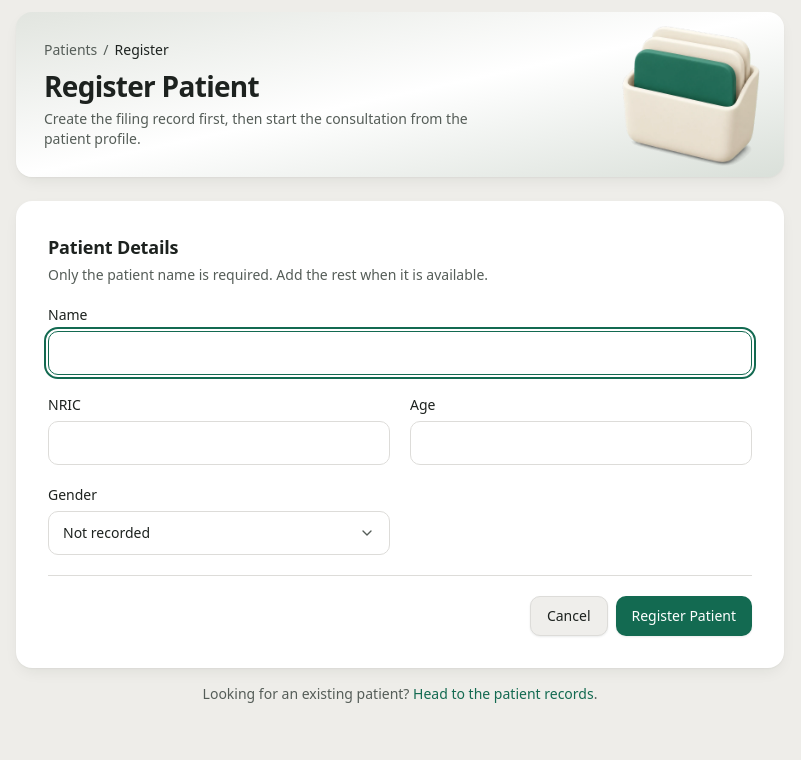
Test case: PatientNew › keeps reception on the form when the name is blank
Click the button "Register Patient" at (684, 616), box [616,596,752,636]
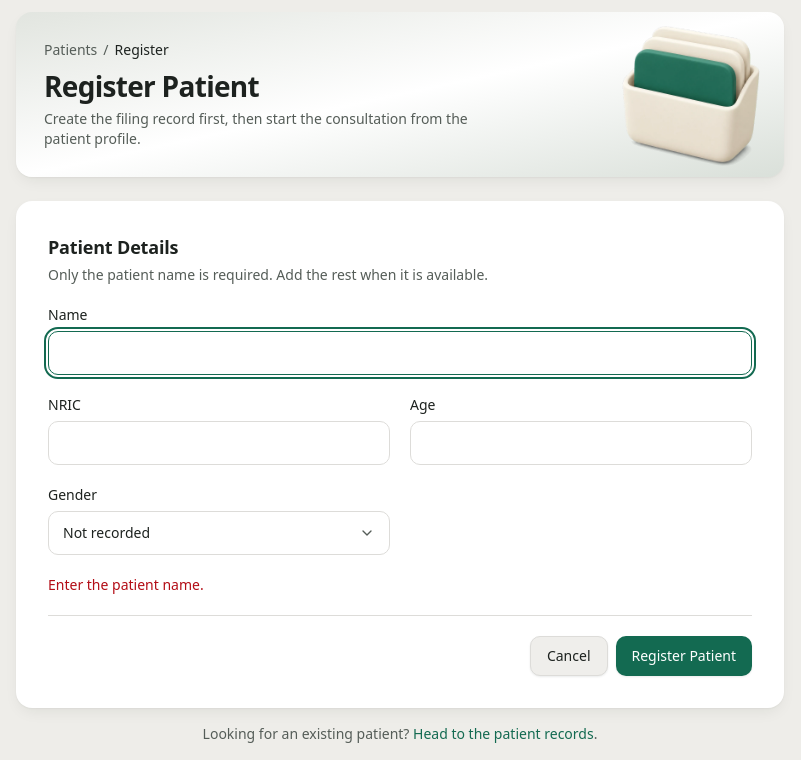
Check: the message reads "Enter the patient name.", box [48,575,204,594]
